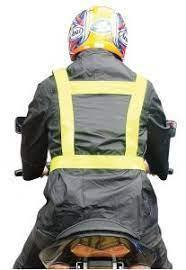Vest: (46, 68, 154, 181)
